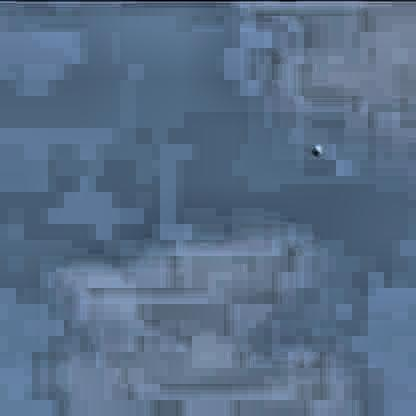golfball: (308, 141, 319, 152)
